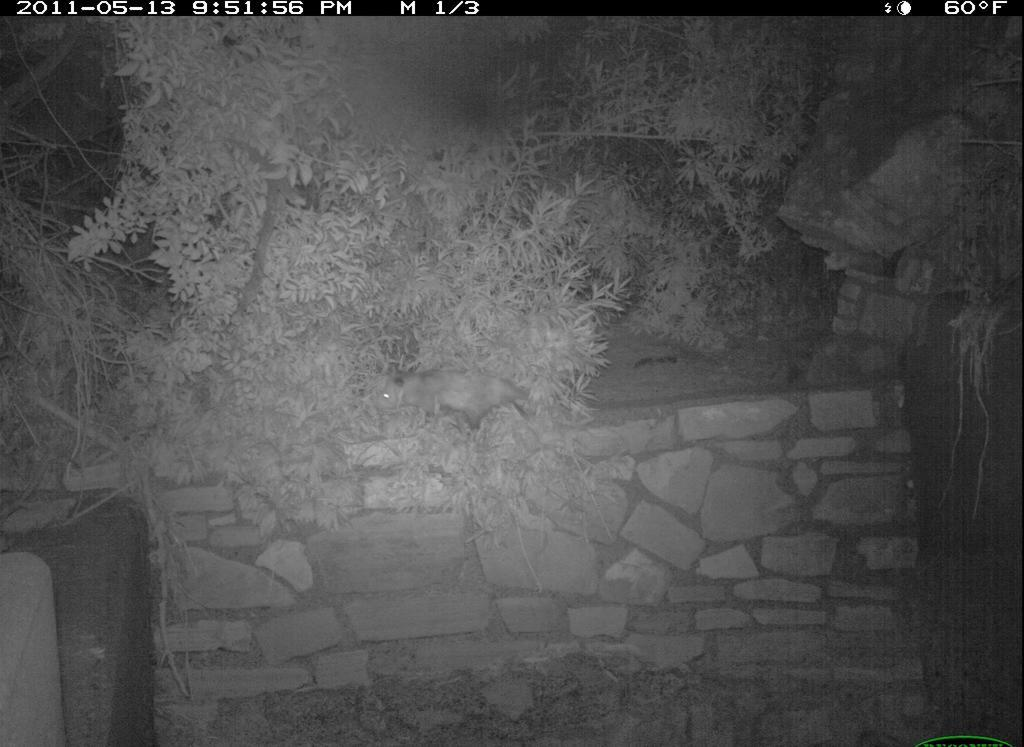opossum: (370, 359, 556, 436)
